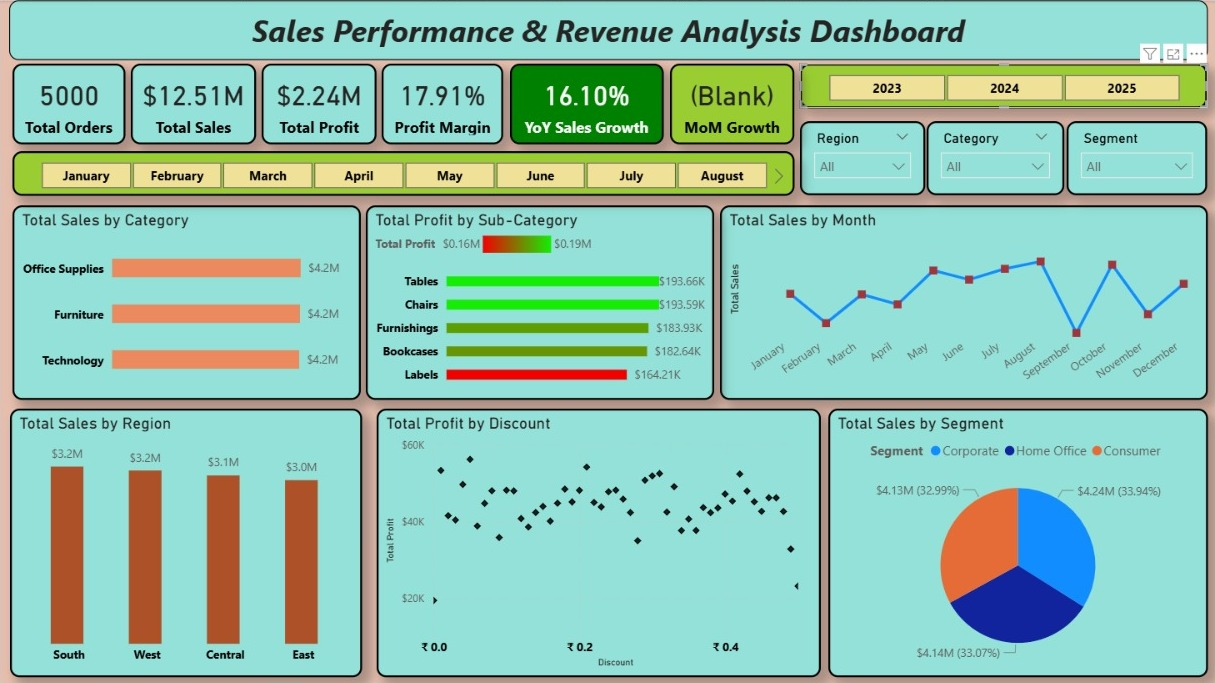

What the dashboard file says about the page in this screenshot:
{"tool":"powerbi","page":{"name":"Dashboard","canvas":[1280,720],"ordinal":0},"visuals":[{"type":"textbox","box":[9.7,0,1262.6,63.2],"z":0},{"type":"card","fields":{"Values":["superstore_excel.Total Orders"]},"box":[13.2,66.7,118.5,85.2],"z":1000},{"type":"card","fields":{"Values":["superstore_excel.Total Sales"]},"box":[137.9,66.7,131.7,85.2],"z":2000},{"type":"card","fields":{"Values":["superstore_excel.Total Profit"]},"box":[275.7,66.7,121.2,85.2],"z":3000},{"type":"card","fields":{"Values":["superstore_excel.Profit Margin"]},"box":[402.1,66.7,128.2,85.2],"z":4000},{"type":"lineChart","fields":{"Y":["superstore_excel.Total Sales"],"Category":["Dimdate.Date.Variation.Date Hierarchy.Month"]},"box":[758.6,216,513.7,204.6],"z":5000},{"type":"barChart","fields":{"Category":["superstore_excel.Category"],"Y":["superstore_excel.Total Sales"]},"box":[13.2,216,367,204.6],"z":6000},{"type":"barChart","fields":{"Y":["superstore_excel.Total Profit"],"Category":["superstore_excel.Sub-Category"]},"box":[385.5,216,367,204.6],"z":7000},{"type":"columnChart","fields":{"Y":["superstore_excel.Total Sales"],"Category":["superstore_excel.Region"]},"box":[10.5,430.2,371.4,282.7],"z":8000},{"type":"scatterChart","fields":{"X":["superstore_excel.Discount"],"Y":["superstore_excel.Total Profit"]},"box":[396.9,430.2,468,282.7],"z":9000},{"type":"pieChart","fields":{"Category":["superstore_excel.Segment"],"Y":["superstore_excel.Total Sales"]},"box":[872.8,430.2,399.5,282.7],"z":10000},{"type":"slicer","fields":{"Values":["Dimdate.Date.Variation.Date Hierarchy.Year"]},"box":[842.9,66.7,429.4,46.5],"z":11000},{"type":"slicer","fields":{"Values":["superstore_excel.Region"]},"box":[842.9,127.3,131.7,78.1],"z":12000},{"type":"slicer","fields":{"Values":["superstore_excel.Category"]},"box":[976.4,127.3,144.9,78.1],"z":13000},{"type":"slicer","fields":{"Values":["superstore_excel.Segment"]},"box":[1123.9,127.3,148.4,78.1],"z":14000},{"type":"card","fields":{"Values":["superstore_excel.YoY Sales Growth %"]},"box":[537.4,66.7,161.6,85.2],"z":15000},{"type":"card","fields":{"Values":["superstore_excel.MoM Growth"]},"box":[706,66.7,130.8,85.2],"z":16000},{"type":"slicer","fields":{"Values":["Dimdate.Date.Variation.Date Hierarchy.Month"]},"box":[13.2,158.9,823.6,46.5],"z":17000}]}

Visuals, with their boxes in screenshot pixels (x1, y1, x2, y2), scaled from the page's 1280x720 canvas onto the 1215x683 screenshot:
textbox: <box>9,0,1208,60</box>
card - superstore_excel.Total Orders: <box>13,63,125,144</box>
card - superstore_excel.Total Sales: <box>131,63,256,144</box>
card - superstore_excel.Total Profit: <box>262,63,377,144</box>
card - superstore_excel.Profit Margin: <box>382,63,503,144</box>
lineChart - superstore_excel.Total Sales x Dimdate.Date.Variation.Date Hierarchy.Month: <box>720,205,1208,399</box>
barChart - superstore_excel.Category x superstore_excel.Total Sales: <box>13,205,361,399</box>
barChart - superstore_excel.Total Profit x superstore_excel.Sub-Category: <box>366,205,714,399</box>
columnChart - superstore_excel.Total Sales x superstore_excel.Region: <box>10,408,363,676</box>
scatterChart - superstore_excel.Discount x superstore_excel.Total Profit: <box>377,408,821,676</box>
pieChart - superstore_excel.Segment x superstore_excel.Total Sales: <box>828,408,1208,676</box>
slicer - Dimdate.Date.Variation.Date Hierarchy.Year: <box>800,63,1208,107</box>
slicer - superstore_excel.Region: <box>800,121,925,195</box>
slicer - superstore_excel.Category: <box>927,121,1064,195</box>
slicer - superstore_excel.Segment: <box>1067,121,1208,195</box>
card - superstore_excel.YoY Sales Growth %: <box>510,63,664,144</box>
card - superstore_excel.MoM Growth: <box>670,63,794,144</box>
slicer - Dimdate.Date.Variation.Date Hierarchy.Month: <box>13,151,794,195</box>
